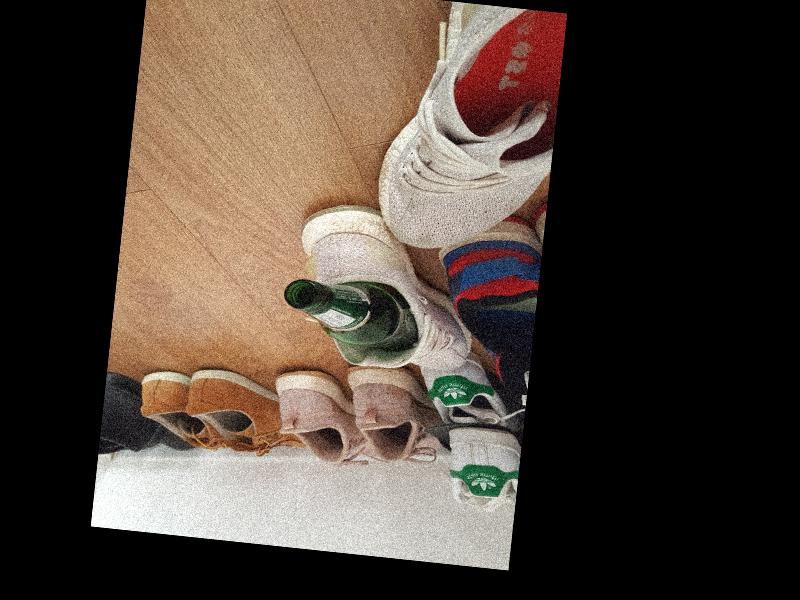Beer: (278, 276, 421, 354)
